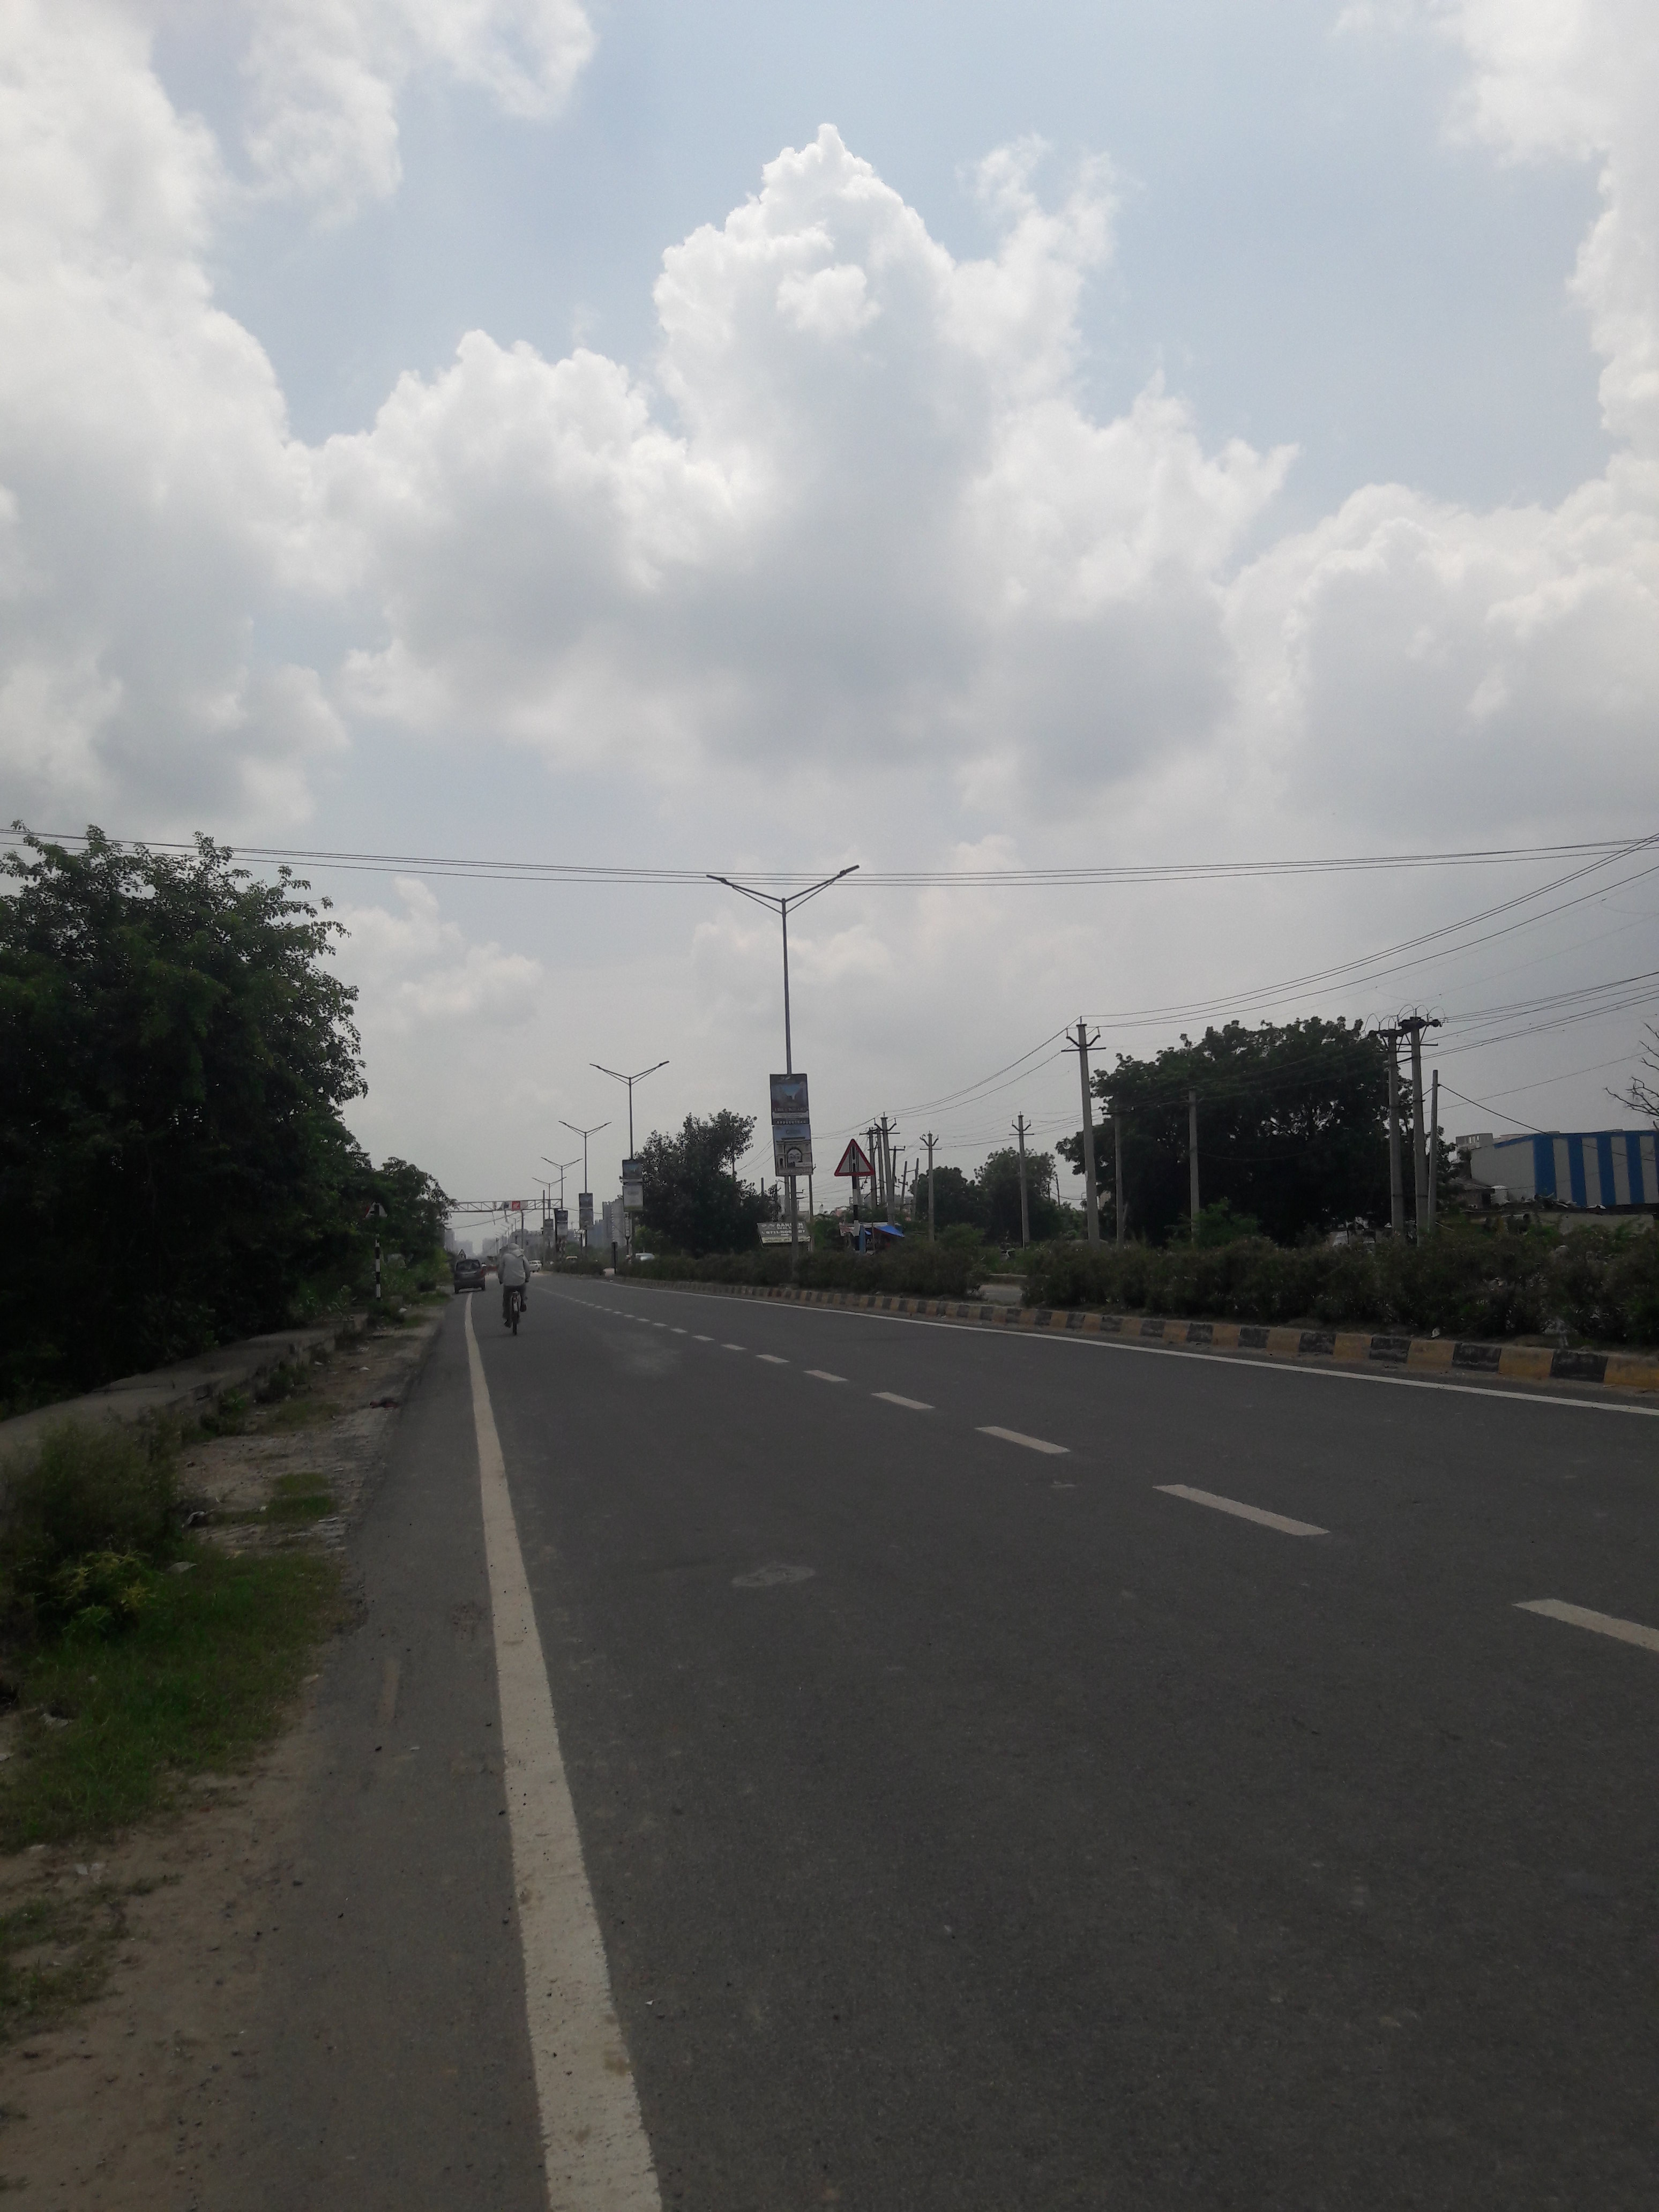traffic_sign: (833, 1137, 875, 1177)
